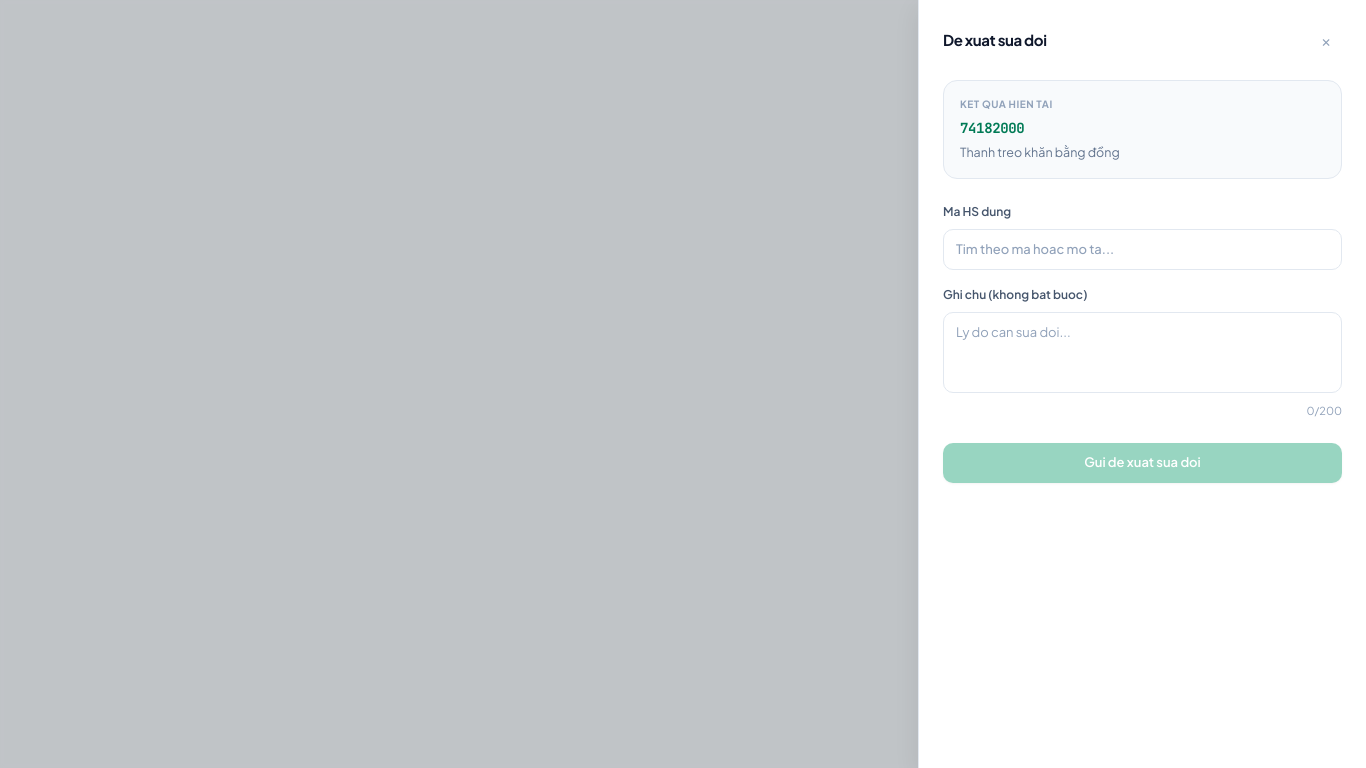
it: CorrectionPanel › shows error when already-pending 409 response received (AC #6)
The image size is (1366, 768).
Type "74199900" into the field with placeholder "Tim theo ma hoac mo ta..." at {"x": 1142, "y": 250}, box [943,229,1342,270]
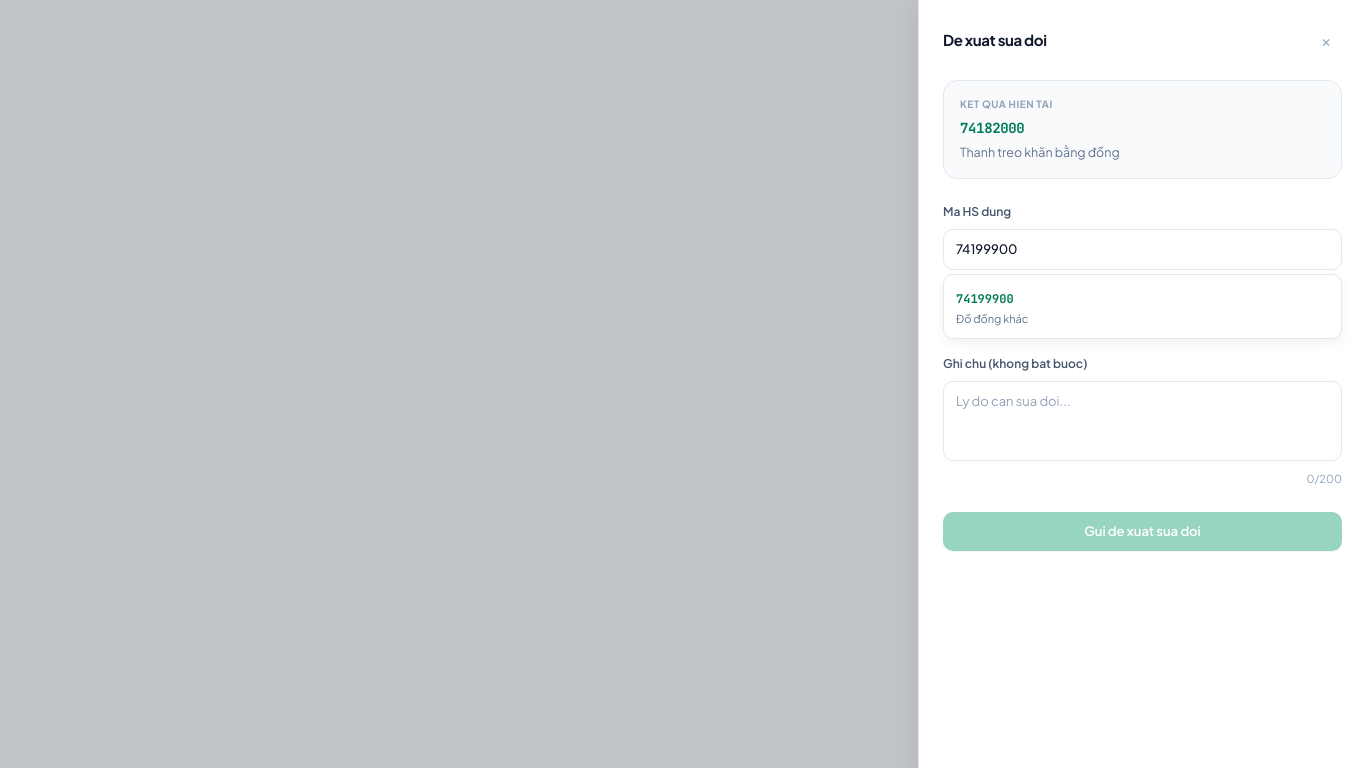
Expected: the text "74199900" is shown
Click the text "74199900" at {"x": 985, "y": 299}, box [956,291,1014,307]
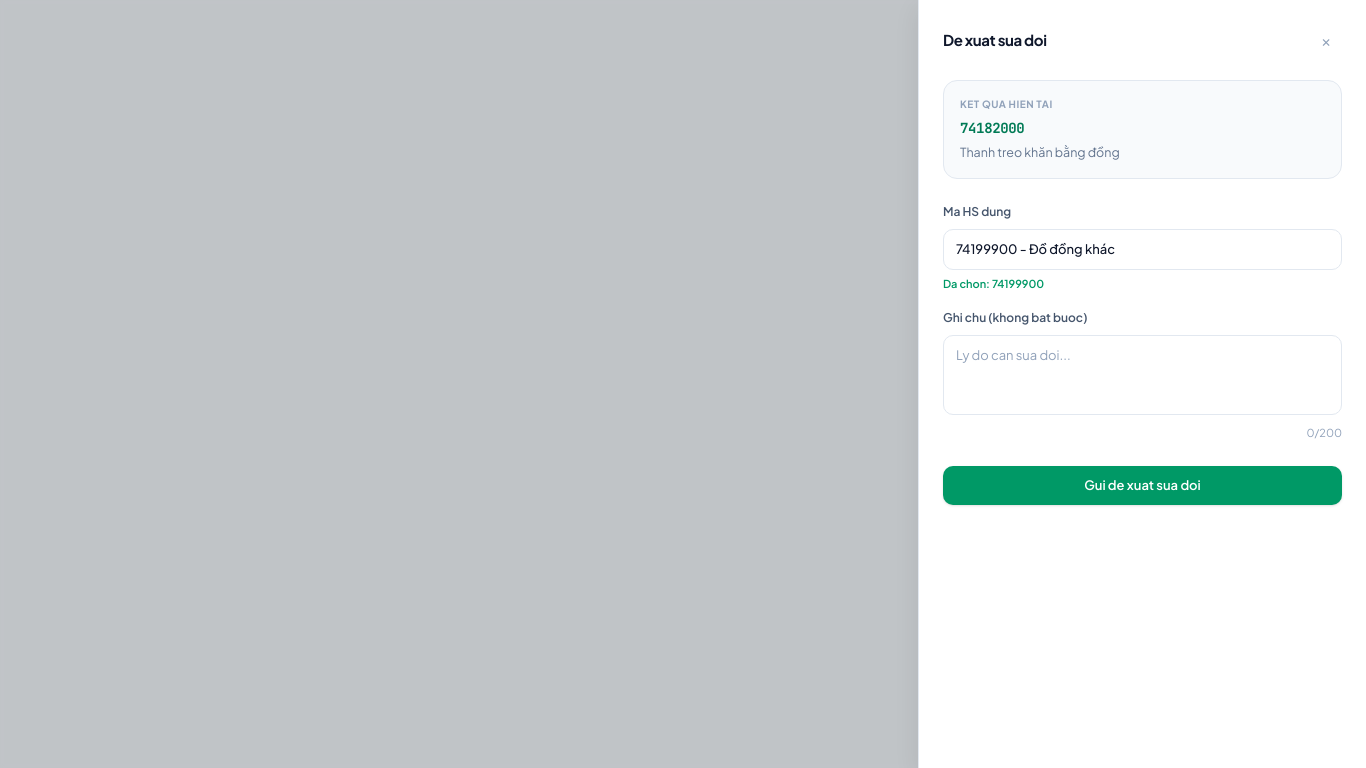
Click the button "Gui de xuat sua doi" at {"x": 1142, "y": 486}, box [943,466,1342,505]
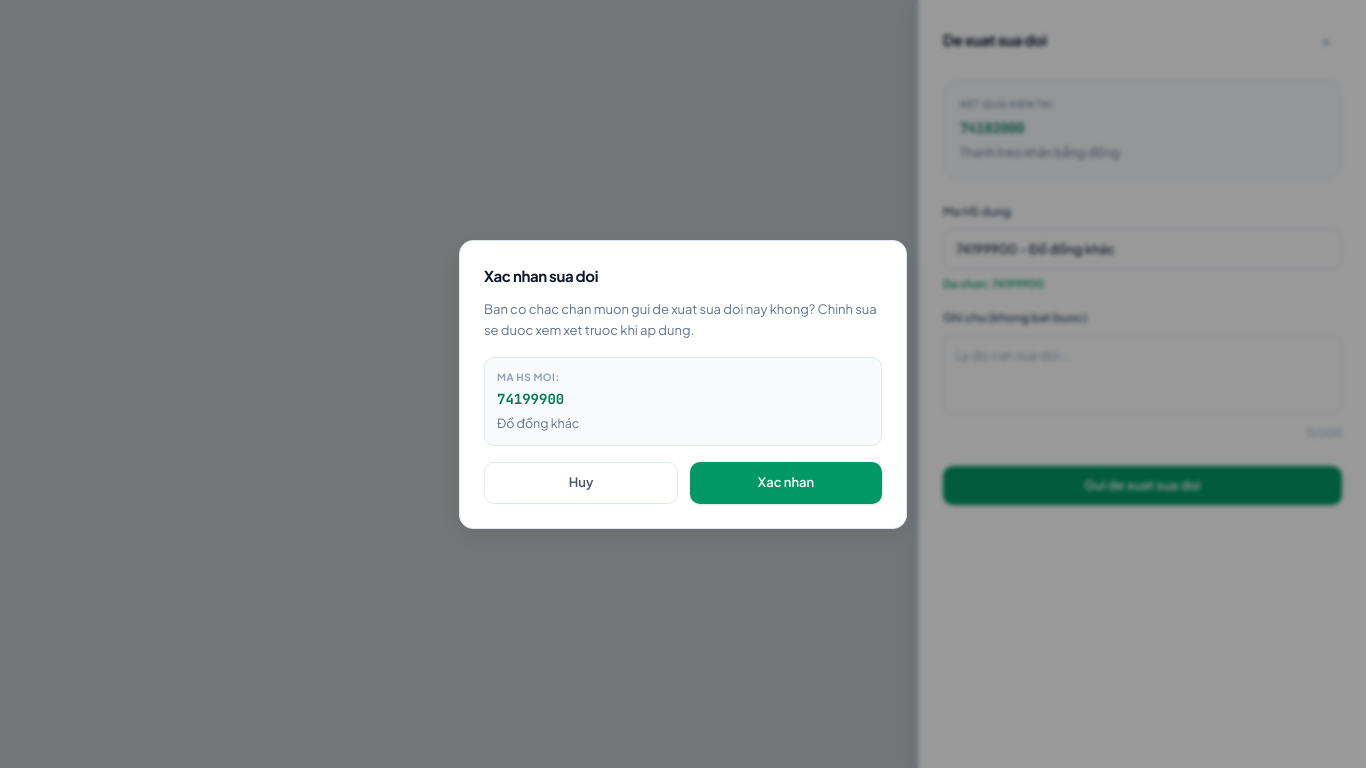
Expected: the heading "Xac nhan sua doi" is shown, [484,266,598,284]
Click the button "Xac nhan" at {"x": 786, "y": 483}, box [690,462,882,504]
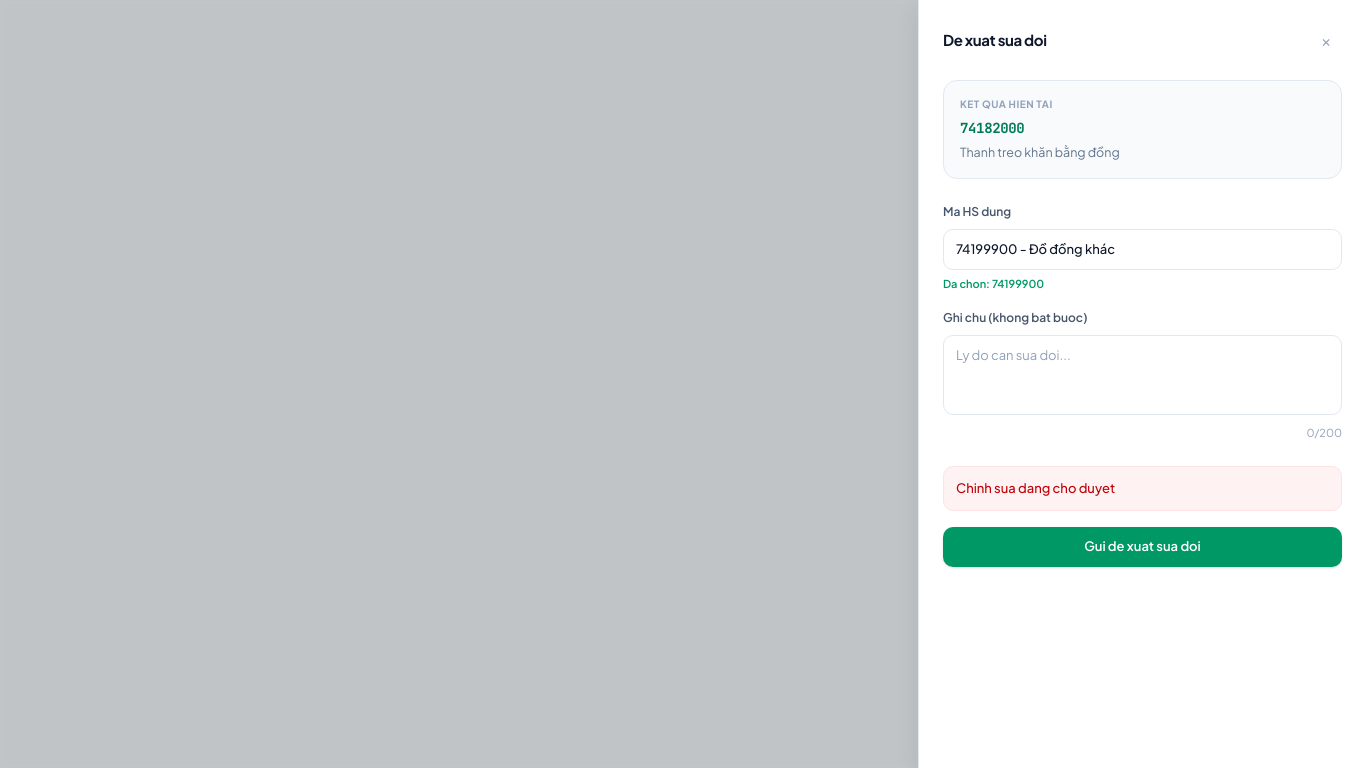
Expected: the text "Chinh sua dang cho duyet" is shown, [943,466,1342,511]
